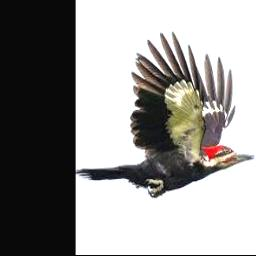Woodpecker: (76, 31, 256, 198)
